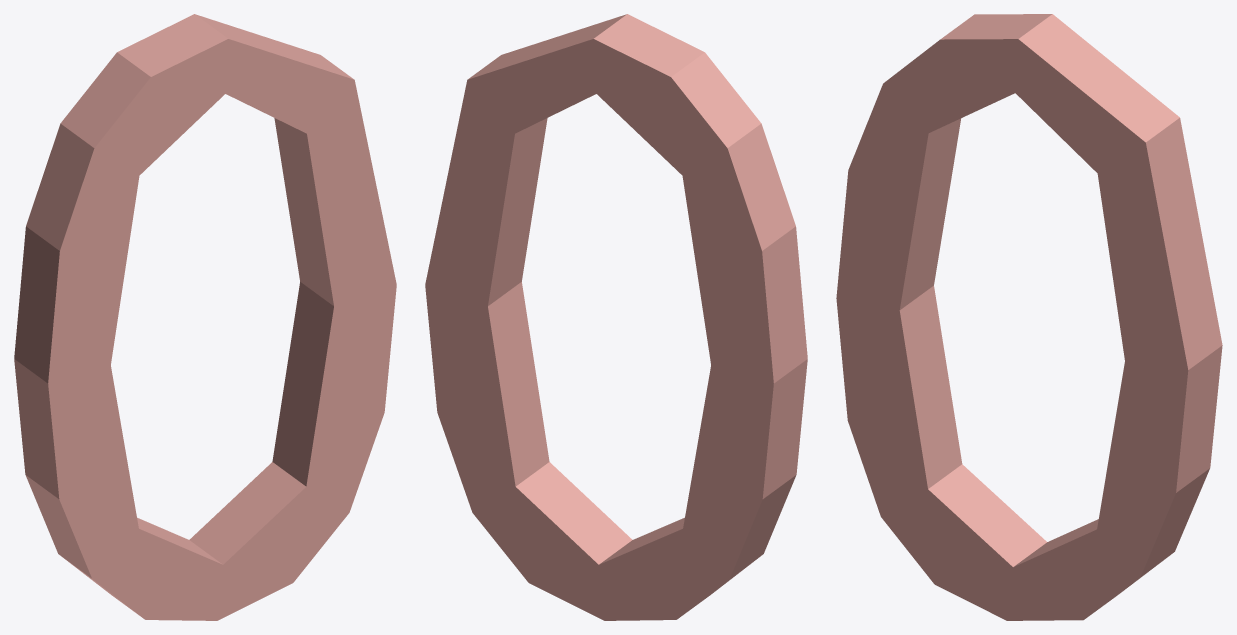
The model's file is tsifa9.fbx.
The picture shows the model from 3 angles, left to right: view 1: azimuth 30°, elevation 25°; view 2: azimuth 150°, elevation 25°; view 3: azimuth 330°, elevation 25°; orthographic projection.
Parts seen in each view (by area): view 1: Extrude_12; view 2: Extrude_12; view 3: Extrude_12.
Part boxes in pixels (x1=…): Extrude_12: x1=14, y1=14, x2=396, y2=620; Extrude_12: x1=425, y1=14, x2=807, y2=620; Extrude_12: x1=836, y1=14, x2=1222, y2=620.
Bounding box in the file's own units: 5.93 × 9.41 × 1.
